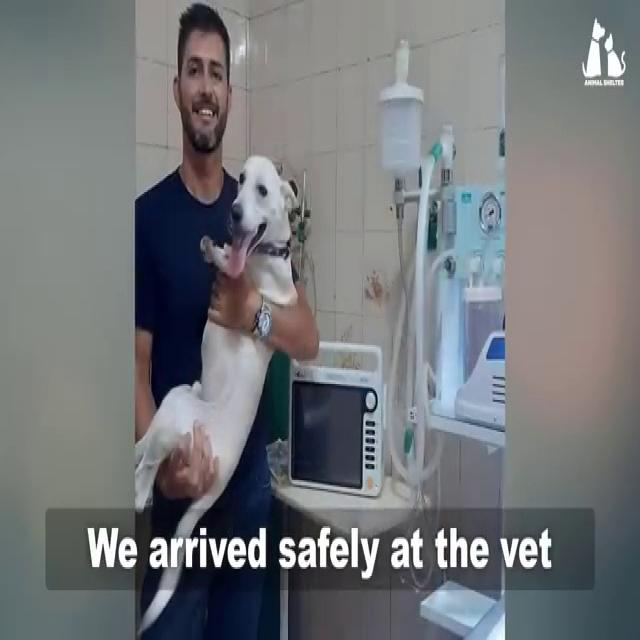normal_animals: (134, 148, 306, 631)
